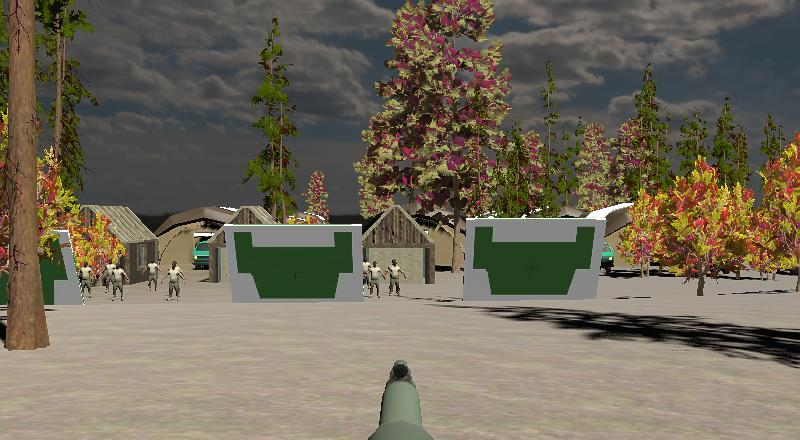House: (360, 204, 441, 286)
Human: (162, 260, 186, 302), (385, 257, 409, 298), (108, 261, 130, 303), (365, 260, 387, 299), (77, 261, 97, 299), (142, 258, 162, 293), (100, 259, 116, 293)
car: (192, 237, 211, 270), (599, 241, 615, 273)
